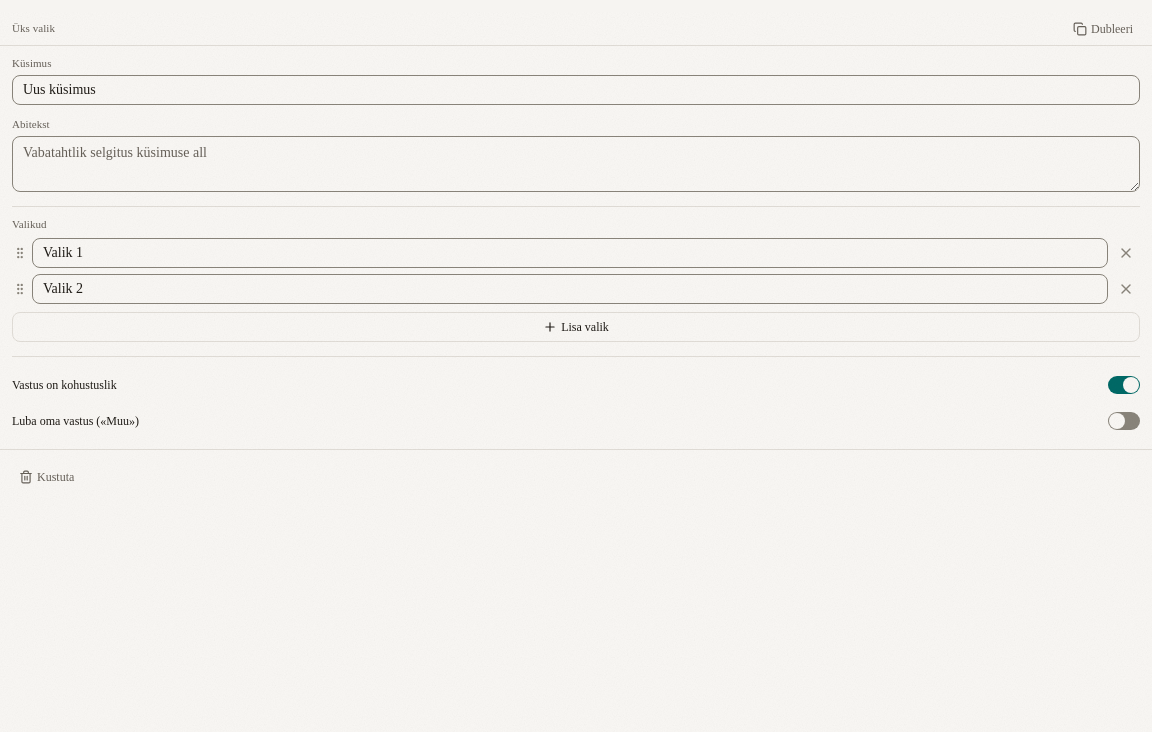
Test: the words the panel seeds › carries in the other-label in the language being edited
The width and height of the screenshot is (1152, 732).
Click the switch named "Luba oma vastus («Muu»)" in the row of "Luba oma vastus («Muu»)".
click(1124, 421)  # box [1108,412,1140,430]
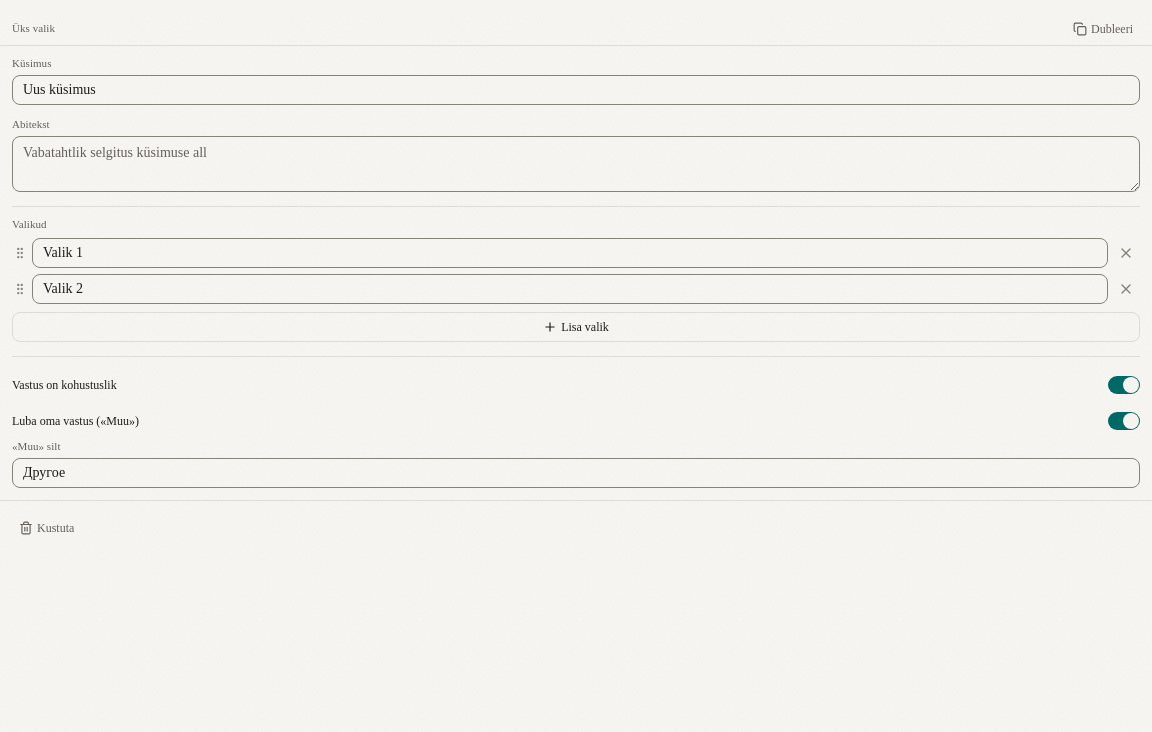
Check: the field showing "Другое" is shown, box [12,458,1140,488]
